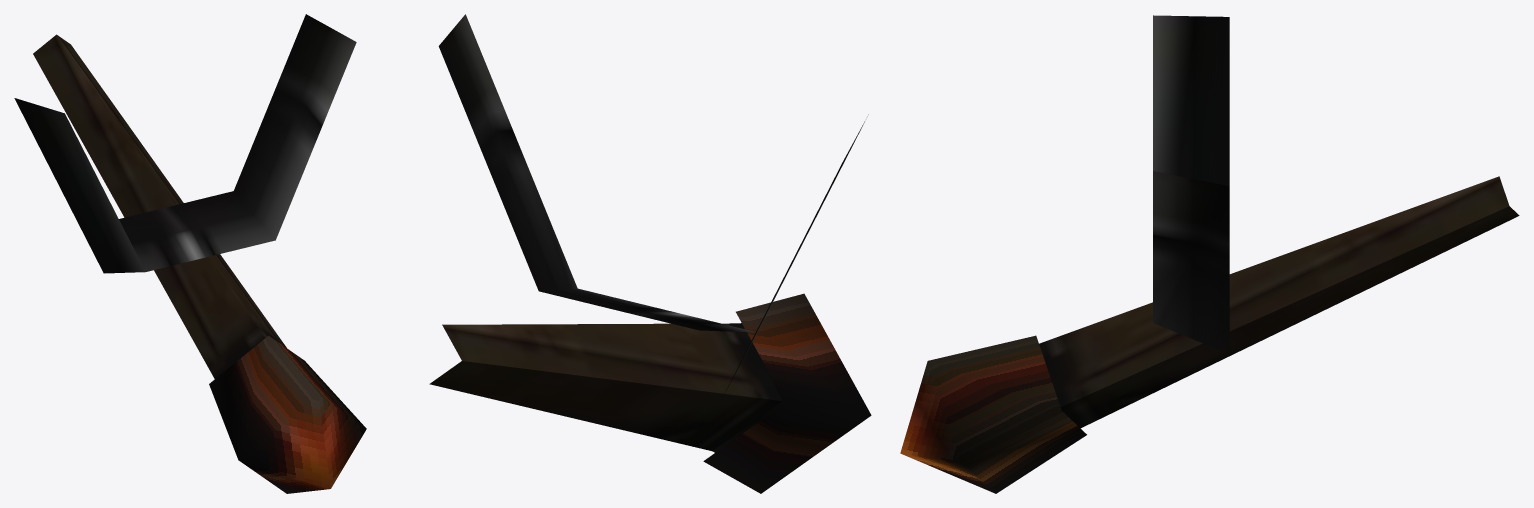
3 renders of one model, left to right at view 1: azimuth 30°, elevation 25°; view 2: azimuth 150°, elevation 25°; view 3: azimuth 270°, elevation 25°, orthographic. The views are drawn at different scales.
Parts seen in each view (by area): view 1: model_Object42; view 2: model_Object42; view 3: model_Object42.
Part boxes in pixels (<box>): model_Object42: <box>14,14,366,493</box>; model_Object42: <box>429,14,871,493</box>; model_Object42: <box>900,15,1519,493</box>.
Size of the model in its own units: 0.358 by 0.3929 by 0.5443.
Materials: 2 (2 with a texture image).
